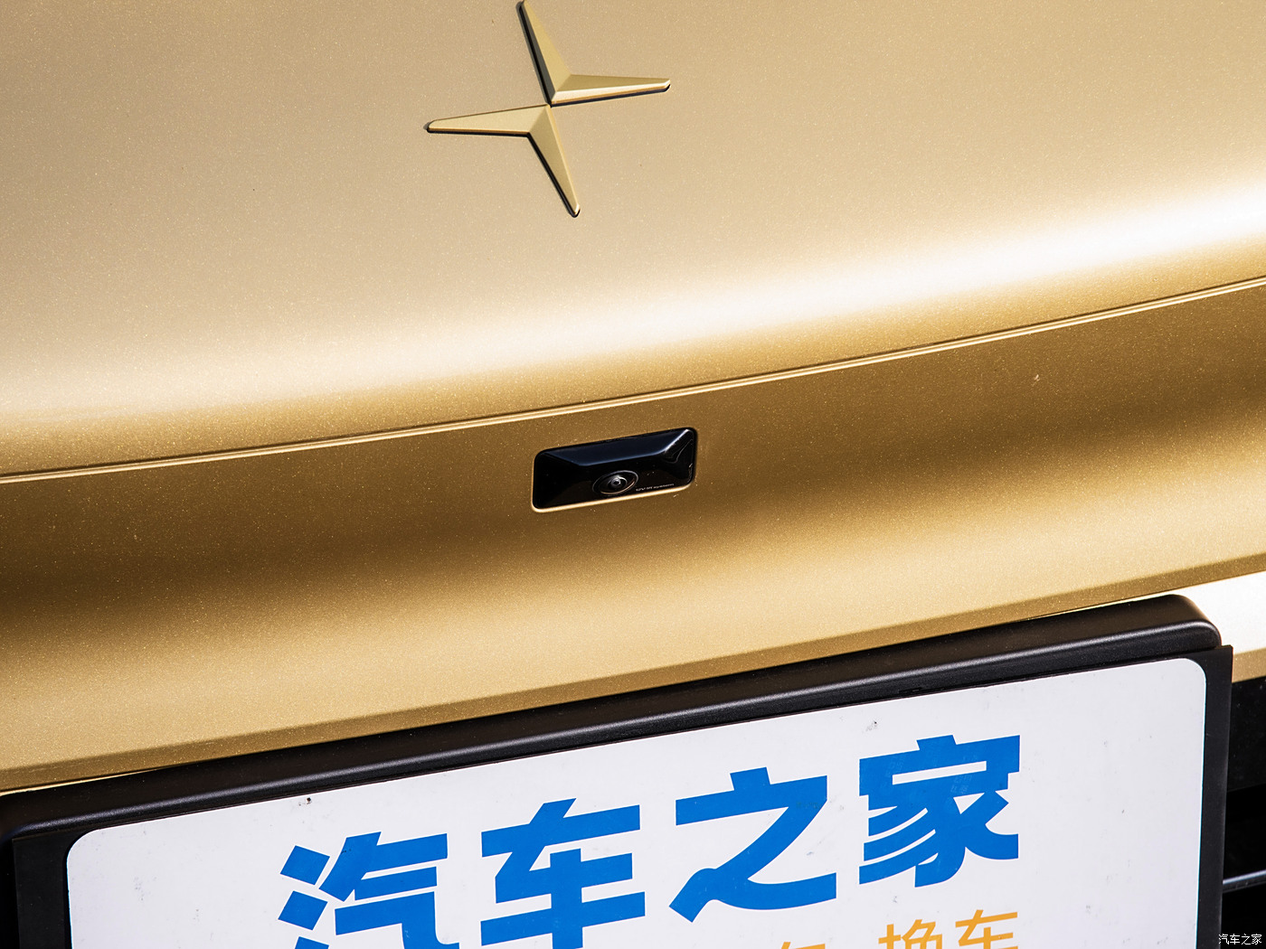Polestar: (426, 1, 670, 217)
